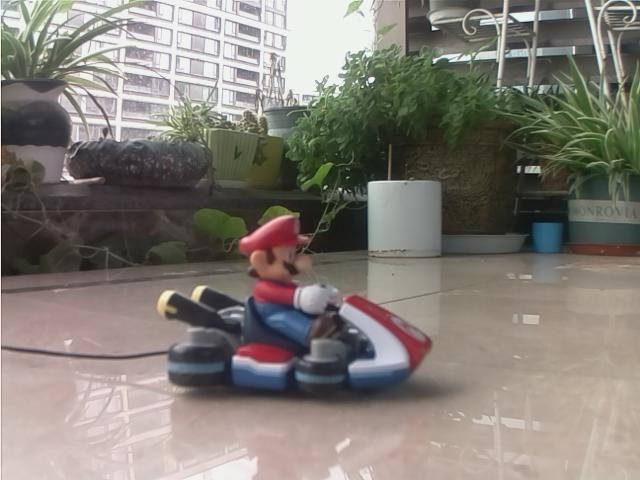mario: (152, 208, 445, 411)
